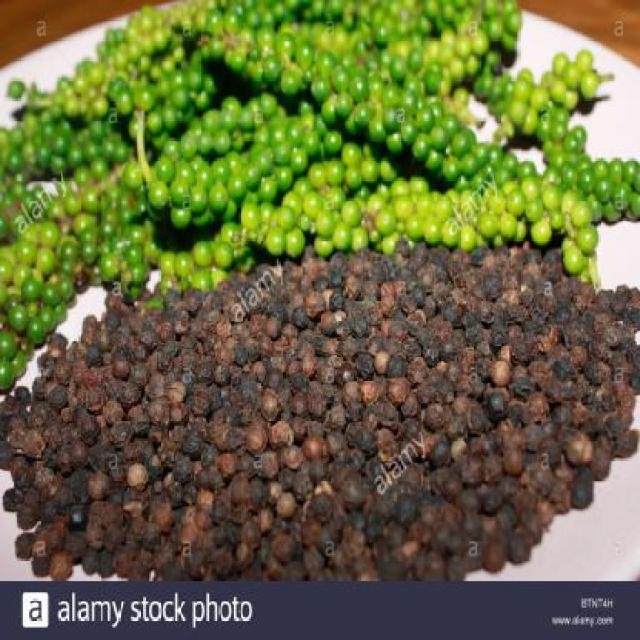UNRIPE: (229, 3, 471, 155), (0, 168, 226, 277), (232, 148, 637, 197), (6, 80, 226, 165), (234, 205, 597, 248), (100, 2, 228, 73), (513, 76, 590, 147), (474, 8, 517, 102), (0, 279, 65, 325), (0, 333, 28, 379)
